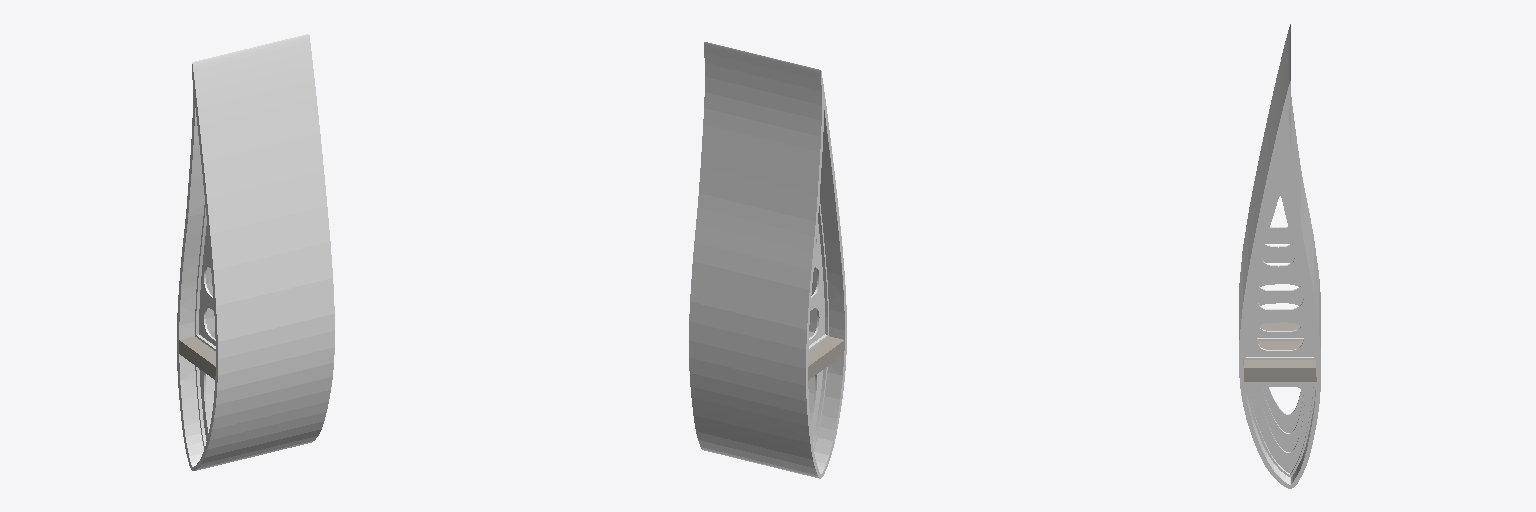
Rendered from wing.obj.
3 views of the same model, side by side, from view 1: azimuth 30°, elevation 25°; view 2: azimuth 150°, elevation 25°; view 3: azimuth 270°, elevation 25° (orthographic).
Parts seen in each view (by area): view 1: Esterno, Centina posteriore (2), Longherone, Centina anteriore (2); view 2: Esterno, Centina posteriore (2), Longherone, Centina anteriore (2); view 3: Esterno, Centina posteriore, Centina anteriore, Longherone, Centina posteriore (1), Centina anteriore (1), Centina anteriore (2).
Boxes of the visible parts, box(x1,y1,x2,y2) form: Esterno: box(177, 34, 334, 470); Centina posteriore (2): box(195, 205, 215, 350); Longherone: box(179, 331, 215, 379); Centina anteriore (2): box(195, 366, 209, 448); Esterno: box(689, 42, 846, 478); Centina posteriore (2): box(808, 198, 828, 350); Longherone: box(808, 331, 844, 380); Centina anteriore (2): box(810, 367, 827, 448); Esterno: box(1239, 24, 1320, 488); Centina posteriore: box(1243, 121, 1315, 359); Centina anteriore: box(1245, 382, 1315, 476); Longherone: box(1244, 322, 1316, 381); Centina posteriore (1): box(1257, 243, 1303, 340); Centina anteriore (1): box(1261, 390, 1304, 451); Centina anteriore (2): box(1263, 387, 1303, 432).
Bounding box in the file's own units: 30 × 100 × 18.29.